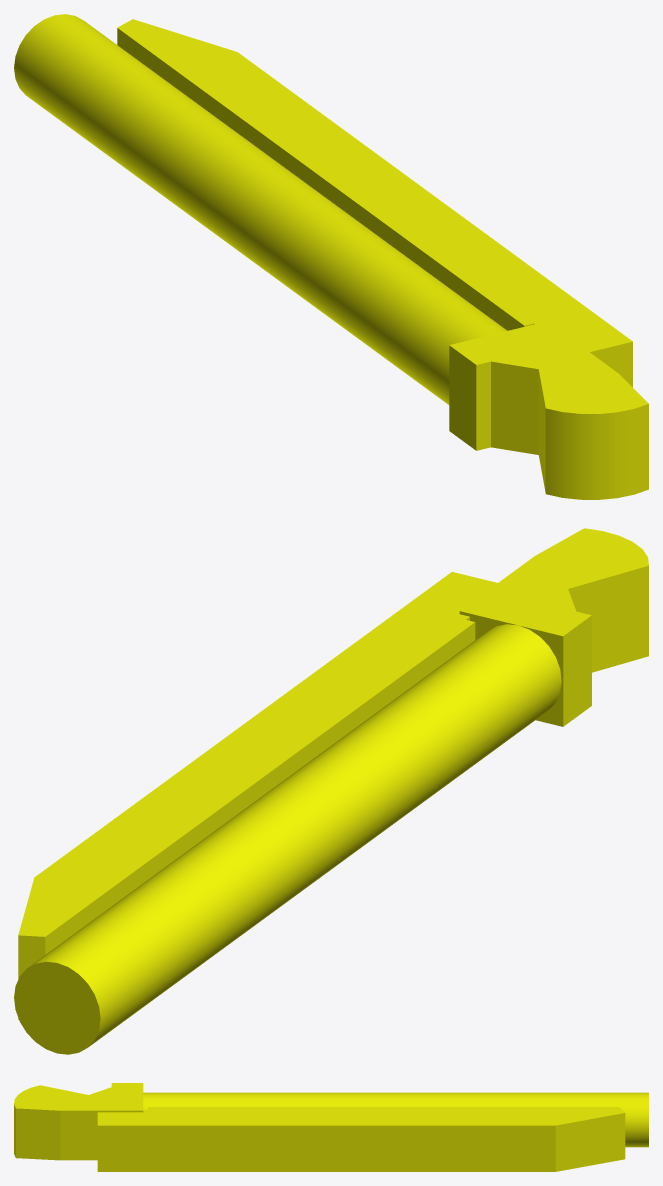
The model's file is body_8.obj.
The picture shows the model from 3 angles, top to bottom: view 1: azimuth 30°, elevation 25°; view 2: azimuth 150°, elevation 25°; view 3: azimuth 270°, elevation 25°; orthographic projection. The views are drawn at different scales.
Visible parts, largest first — view 1: Body_4; view 2: Body_4; view 3: Body_4.
Boxes of the visible parts, box(x1,y1,x2,y2) form: Body_4: box(14, 14, 648, 499); Body_4: box(14, 528, 648, 1054); Body_4: box(14, 1083, 648, 1171).
Size of the model in its own units: 0.208 by 0.118 by 1.37.
